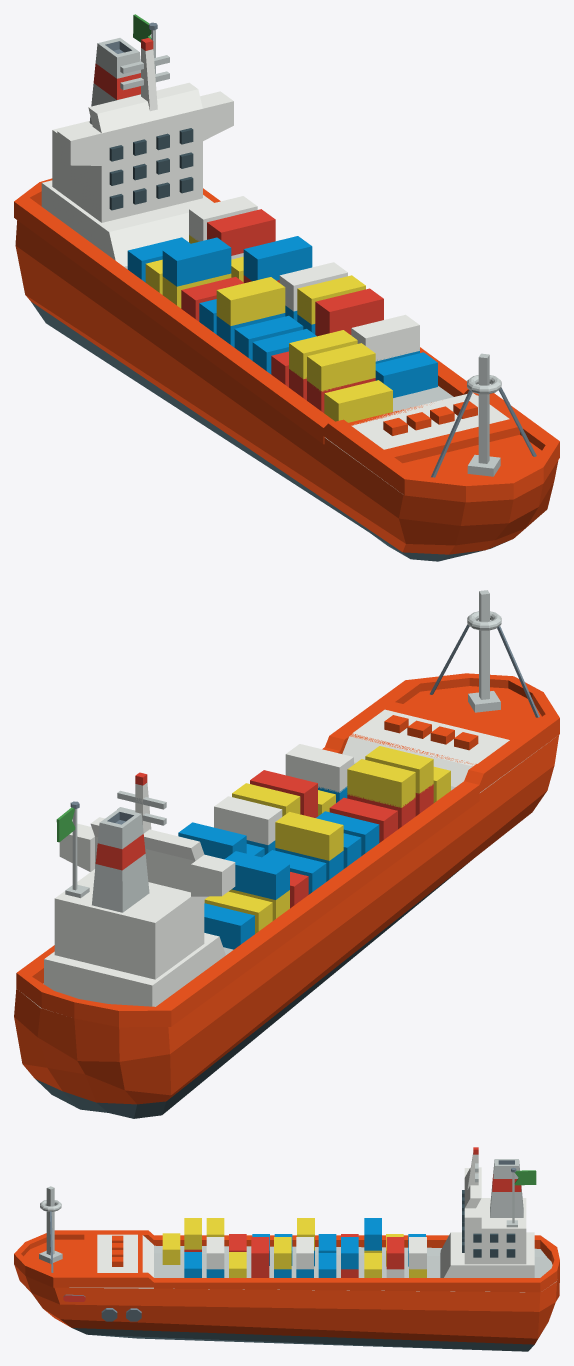
The model's file is barco.glb.
3 renders of one model, top to bottom at view 1: azimuth 30°, elevation 25°; view 2: azimuth 150°, elevation 25°; view 3: azimuth 270°, elevation 25°, orthographic. The views are drawn at different scales.
Visible parts, largest first — view 1: group582159379; view 2: group582159379; view 3: group582159379.
Boxes of the visible parts, bbox=[...] form: group582159379: bbox=[14, 14, 559, 561]; group582159379: bbox=[14, 590, 559, 1118]; group582159379: bbox=[14, 1147, 559, 1351].
Bounding box in the file's own units: 0.21 × 0.3814 × 0.975.
Materials: 1 (1 with a texture image).
